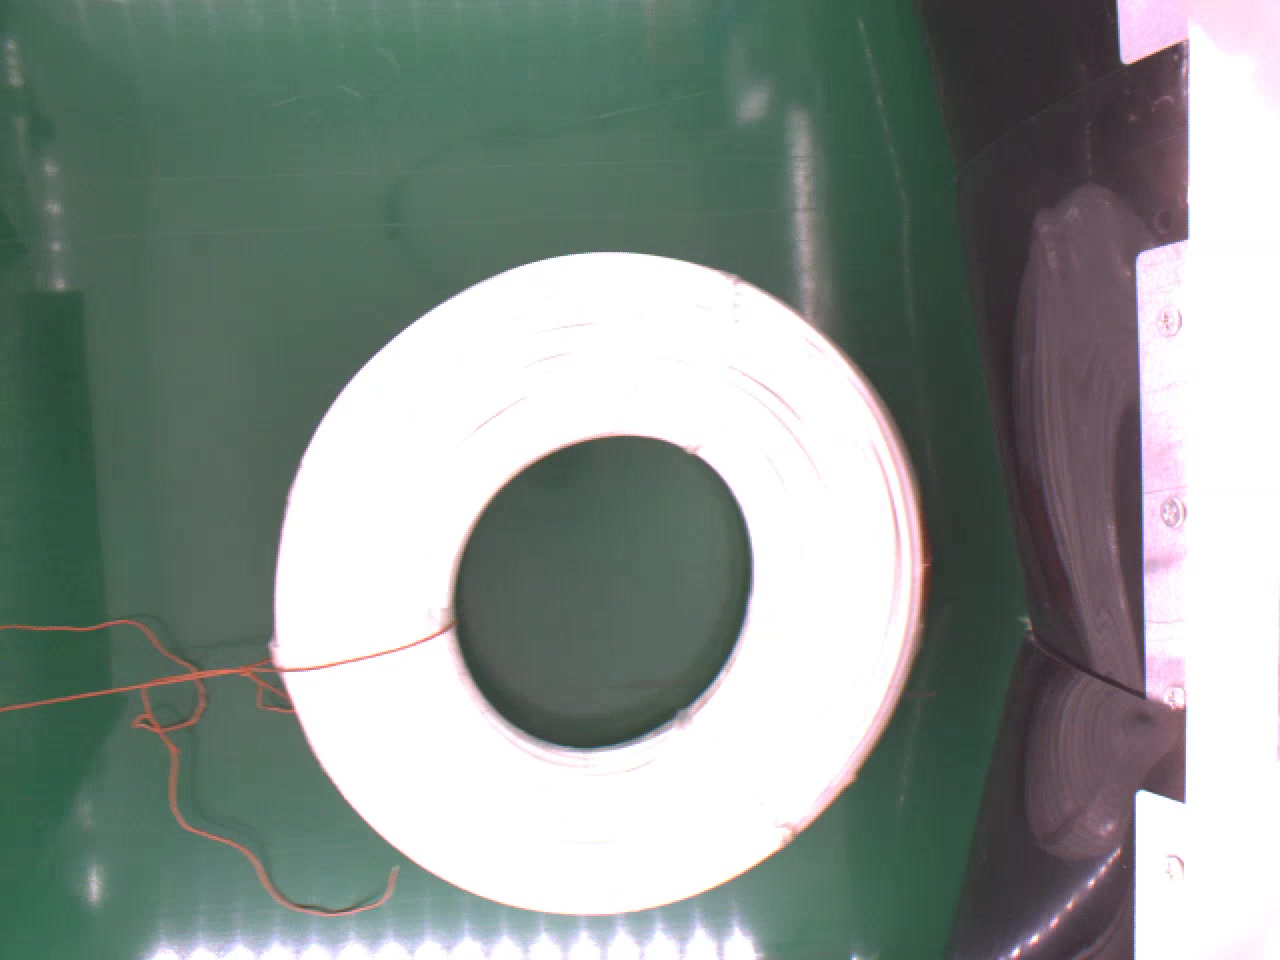white: (265, 243, 931, 921)
